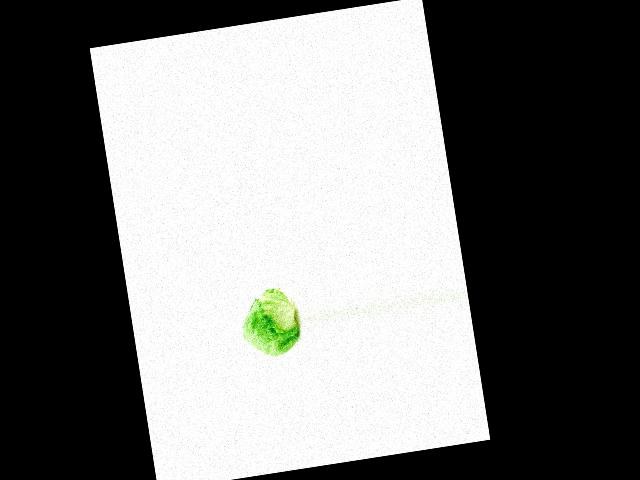lettuce: (234, 285, 302, 363)
